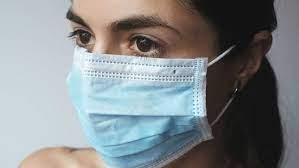FaceMask: (61, 47, 237, 167)
